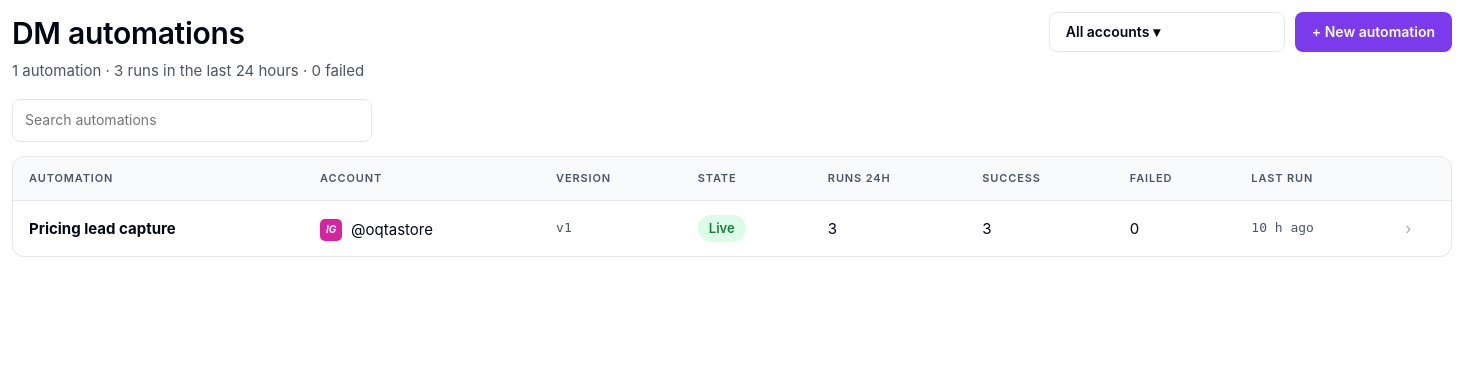
Scenario: overview page › words the invite for a message-only platform without mentioning comments
The width and height of the screenshot is (1464, 380).
Expected: the text "Pricing lead capture" is shown, x1=29 y1=219 x2=176 y2=238
Select "+1 415 555 0100 · WhatsApp ▾" in the dropdown named "Filter by account" at (1167, 32), box x1=1049 y1=12 x2=1285 y2=52
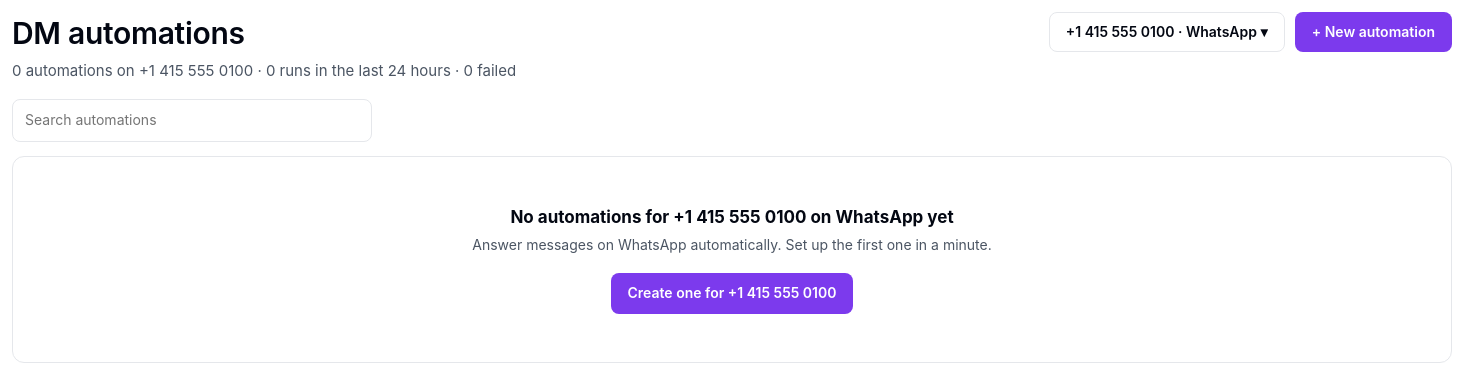
Expected: the heading "No automations for +1 415 555 0100 on WhatsApp yet" is shown, x1=510 y1=206 x2=954 y2=226
Expected: the text "Answer messages on WhatsApp automatically. Set up the first one in a minute." is shown, x1=472 y1=236 x2=992 y2=253
